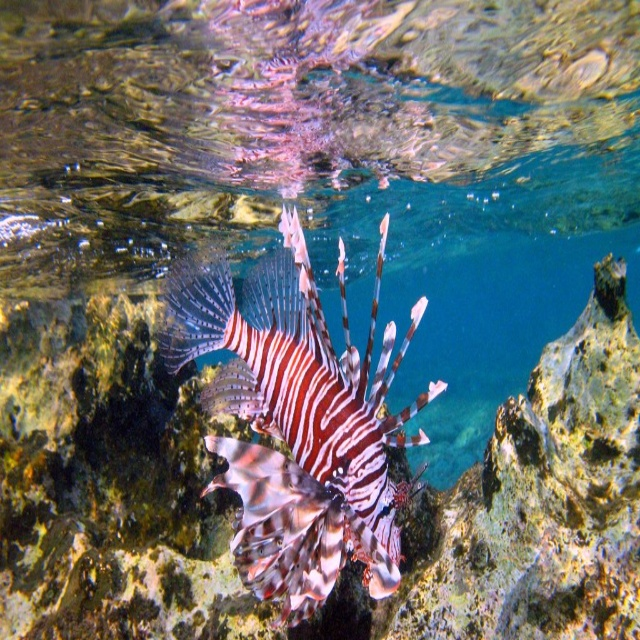Fish: (151, 200, 448, 631)
